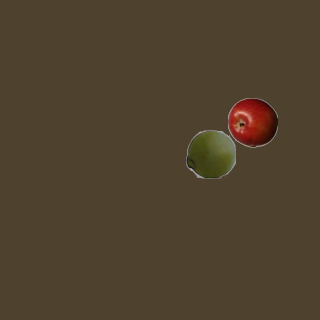Apple Braeburn: (227, 97, 277, 147)
Grape White 4: (185, 128, 235, 178)
